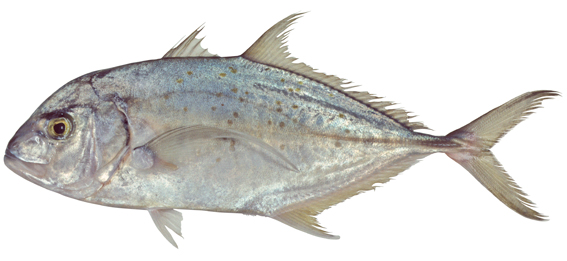fish: (5, 11, 563, 247)
